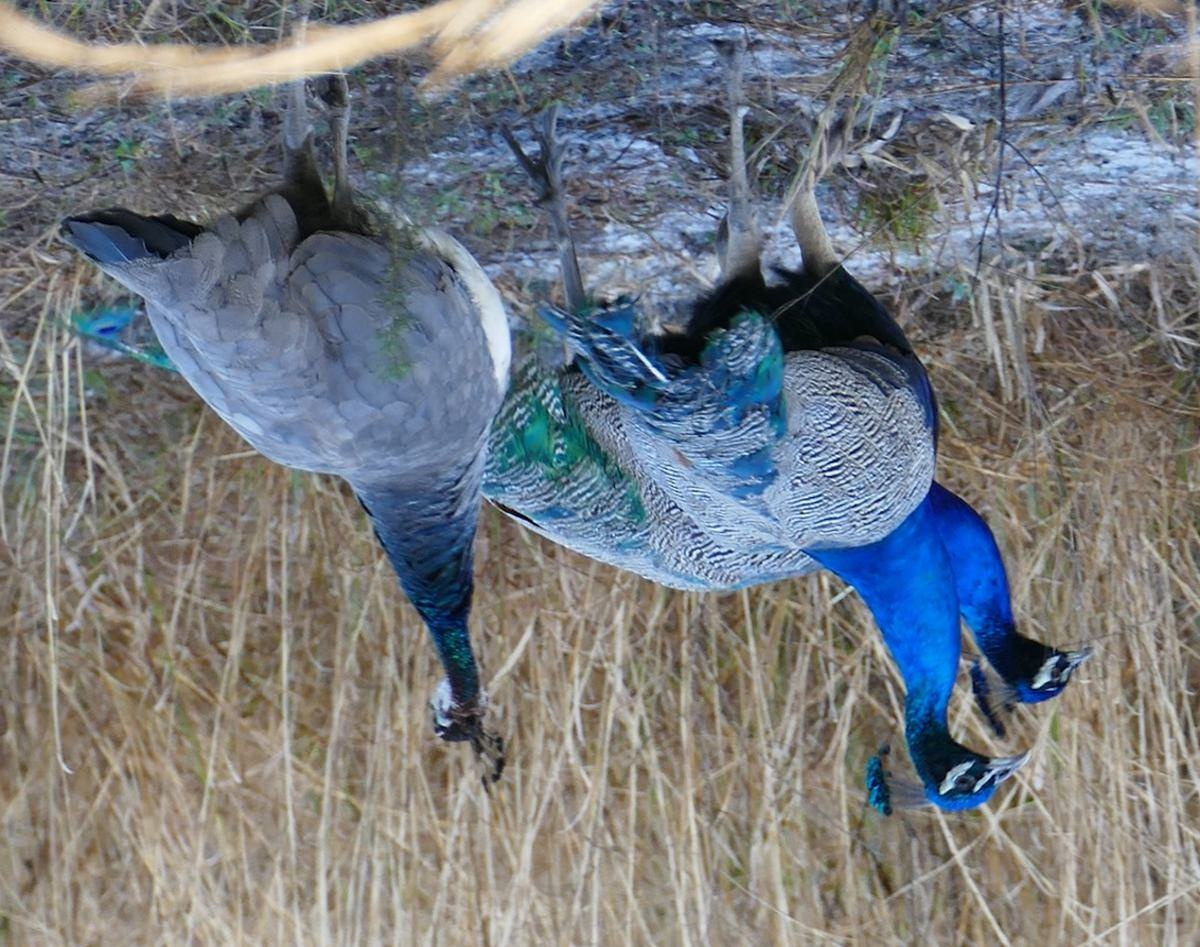peacock: (523, 132, 1039, 869)
